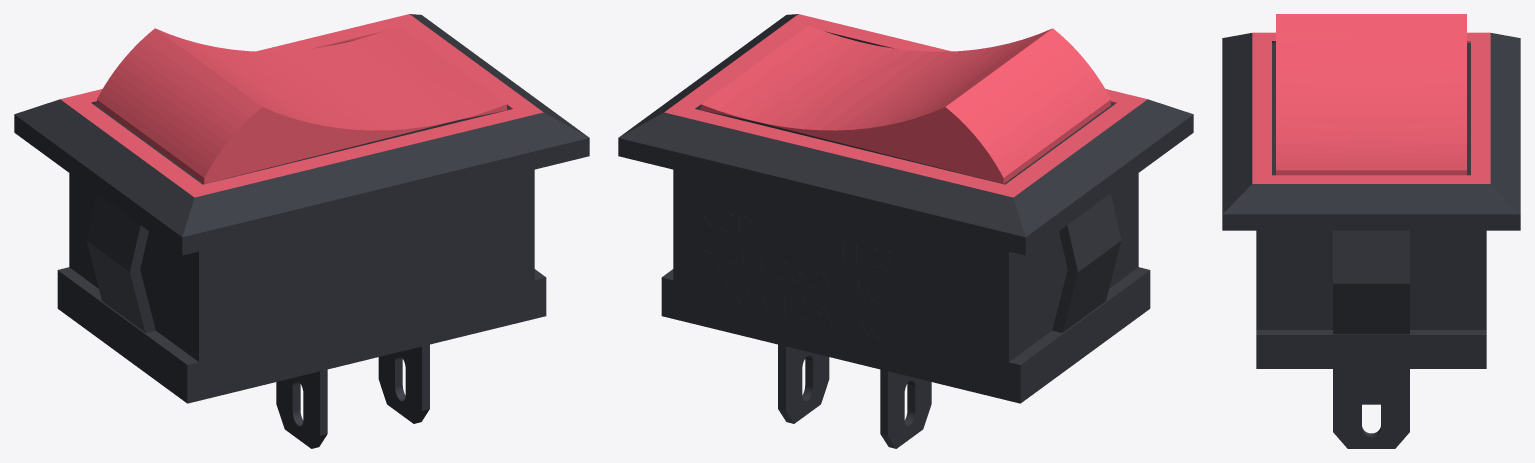
The model's file is switch.glb.
The picture shows the model from 3 angles, left to right: view 1: azimuth 30°, elevation 25°; view 2: azimuth 150°, elevation 25°; view 3: azimuth 270°, elevation 25°; orthographic projection. The views are drawn at different scales.
Visible parts, largest first — view 1: housing, rocker; view 2: housing, rocker; view 3: housing, rocker.
Boxes of the visible parts, bbox=[...] form: housing: bbox=[14, 14, 589, 448]; rocker: bbox=[60, 14, 543, 197]; housing: bbox=[618, 14, 1193, 448]; rocker: bbox=[664, 14, 1147, 197]; housing: bbox=[1222, 33, 1520, 448]; rocker: bbox=[1252, 14, 1490, 183].
Size of the model in its own units: 21 by 19.37 by 15.
